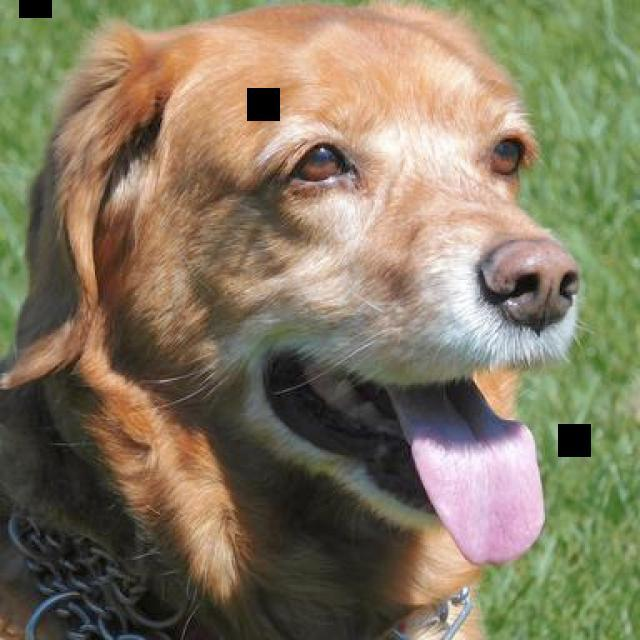adult_dog: (0, 2, 579, 640)
